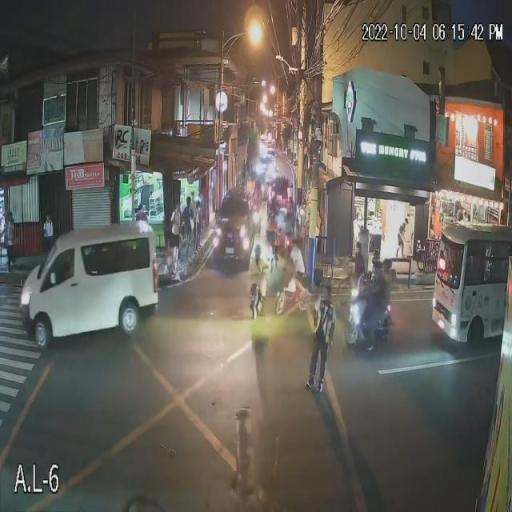helmet: (369, 259, 384, 277), (383, 259, 393, 271)
motorcycle: (347, 288, 393, 345)
rider: (368, 273, 385, 348), (379, 273, 394, 326)
